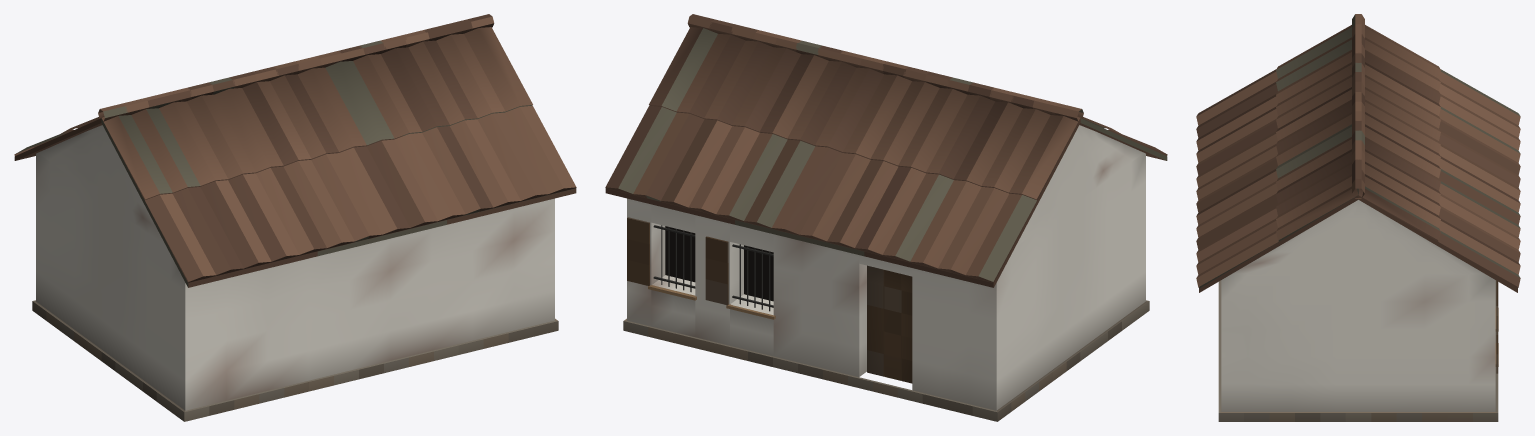
The model's file is casa_ba_a.glb.
The picture shows the model from 3 angles, left to right: view 1: azimuth 30°, elevation 25°; view 2: azimuth 150°, elevation 25°; view 3: azimuth 270°, elevation 25°; orthographic projection. The views are drawn at different scales.
Visible parts, largest first — view 1: casa_ba_a; view 2: casa_ba_a; view 3: casa_ba_a.
Part boxes in pixels (box(x1,y1,x2,y2)): casa_ba_a: box(14, 14, 576, 421); casa_ba_a: box(605, 14, 1167, 421); casa_ba_a: box(1196, 14, 1520, 421).
Bounding box in the file's own units: 8.43 × 5.33 × 6.61.
